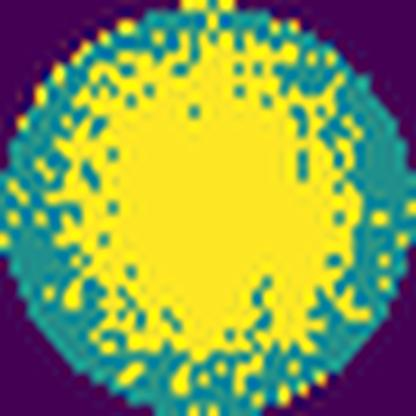Center: (53, 29, 360, 358)
